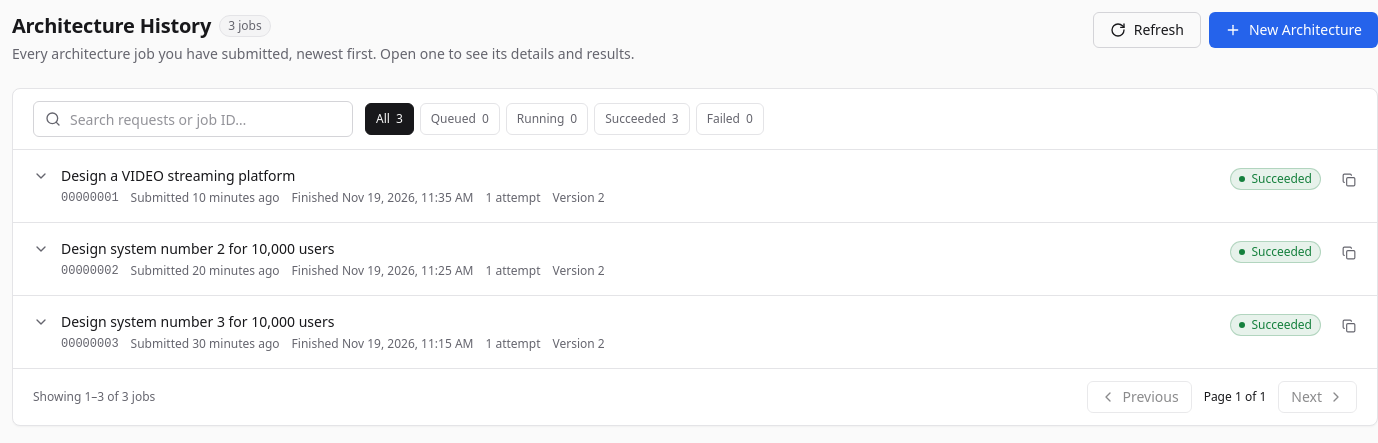
Test: Architecture History page › searches request text after a short pause, then clears filters
Expected: the list named "Architecture jobs" is shown, [13, 150, 1377, 368]
Type "video" into the search field named "Search history". click: (193, 119)
box: [33, 101, 353, 137]
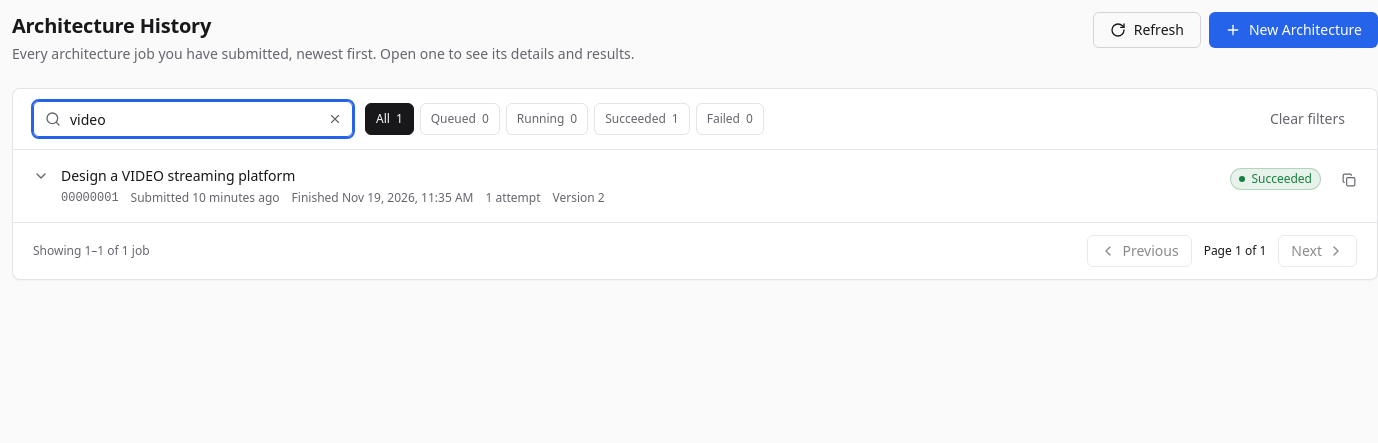
Click the button "Clear filters". click: (1307, 119)
box: [1258, 103, 1357, 135]
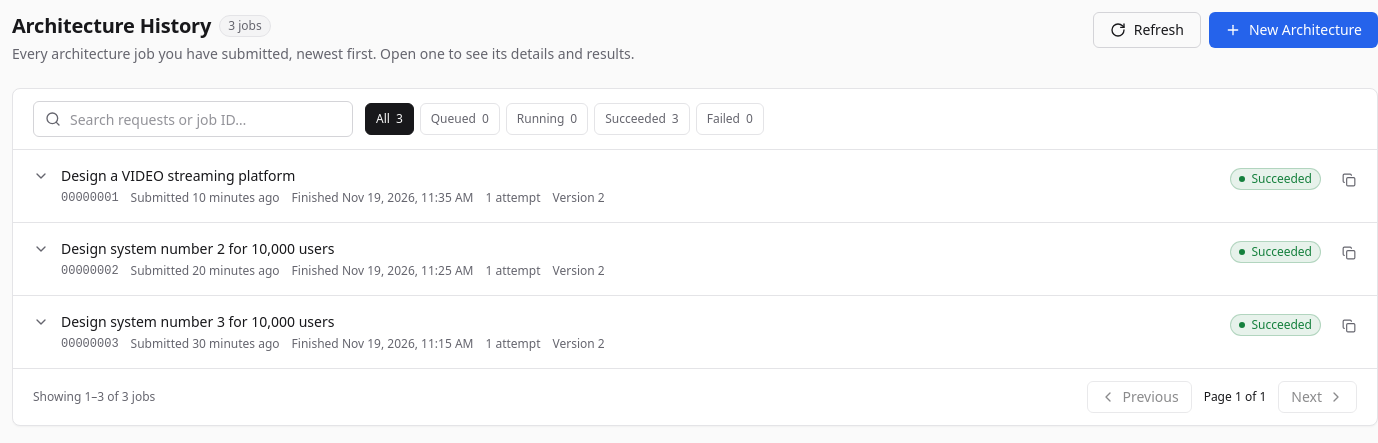
Result: the search field named "Search history" is empty at [33, 101, 353, 137]
